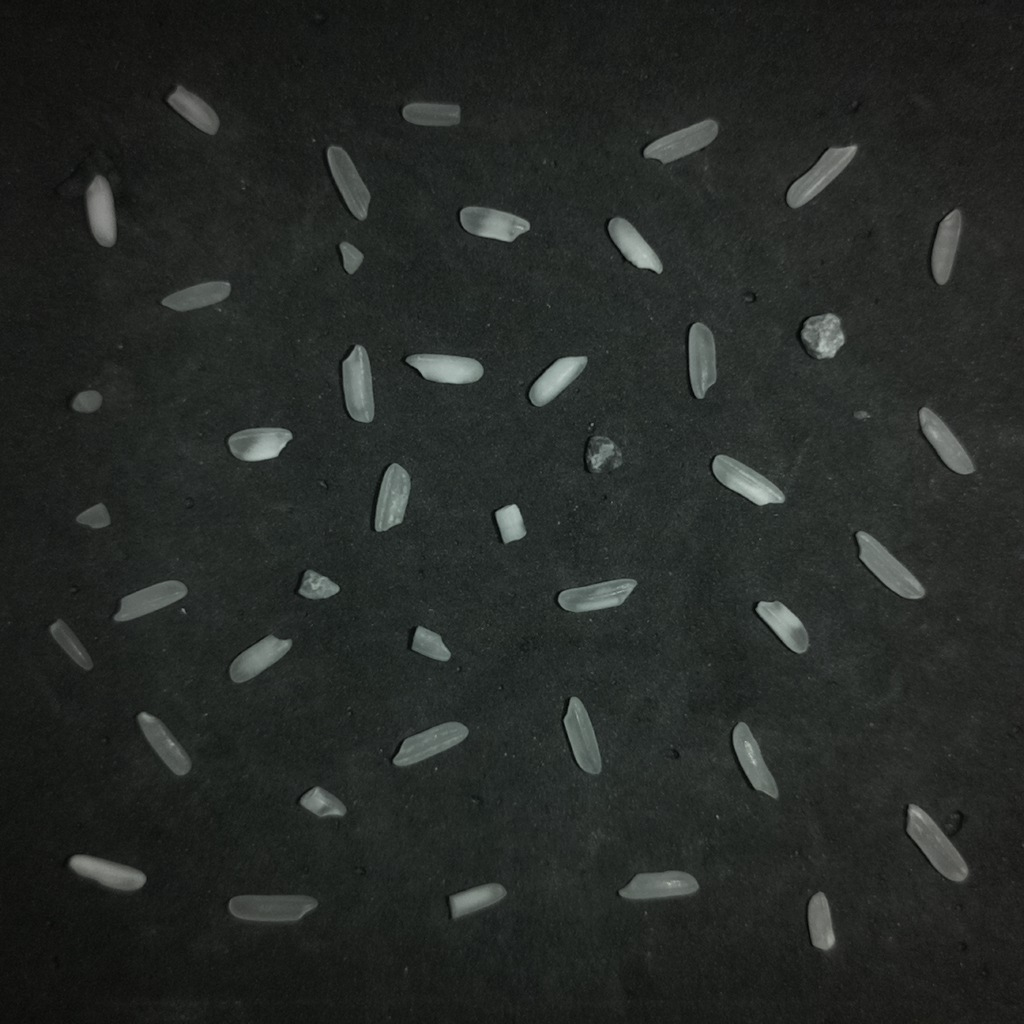broken: (165, 86, 218, 133), (374, 463, 410, 531), (49, 619, 93, 670), (807, 891, 835, 951), (299, 786, 346, 817), (402, 102, 459, 126), (411, 626, 450, 661), (75, 503, 110, 528), (338, 241, 363, 274)
chalky: (711, 455, 784, 505), (732, 722, 778, 798), (607, 217, 662, 273), (229, 634, 290, 682), (528, 357, 587, 406), (67, 854, 144, 891), (755, 601, 808, 653), (557, 578, 636, 612), (459, 206, 529, 242), (404, 353, 483, 384), (227, 427, 292, 461), (85, 175, 116, 246), (448, 883, 506, 919), (494, 504, 526, 543)
foreign: (800, 313, 845, 359), (584, 435, 623, 473), (298, 569, 339, 599), (70, 389, 102, 413)
whole: (906, 804, 968, 881), (855, 531, 924, 599), (786, 145, 855, 208), (919, 407, 974, 474), (136, 712, 190, 775), (643, 119, 718, 163), (392, 722, 467, 766), (326, 145, 369, 220), (113, 580, 187, 621), (563, 696, 601, 774), (228, 894, 317, 922), (342, 345, 374, 422), (931, 209, 962, 285), (618, 870, 698, 899), (688, 322, 716, 398), (161, 282, 230, 311)
